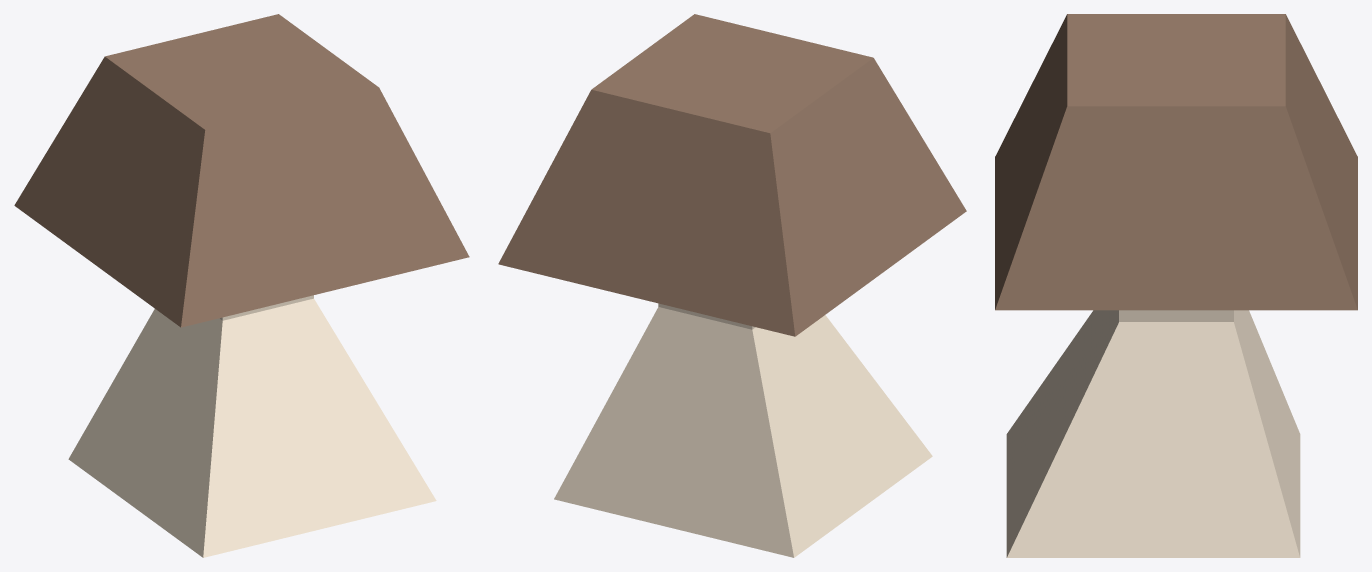
Rendered from mushroom1.glb.
3 views of the same model, side by side, from view 1: azimuth 30°, elevation 25°; view 2: azimuth 150°, elevation 25°; view 3: azimuth 270°, elevation 25° (orthographic). The views are drawn at different scales.
Parts seen in each view (by area): view 1: Boletus; view 2: Boletus; view 3: Boletus.
Part boxes in pixels (x1=…): Boletus: x1=14, y1=14, x2=469, y2=557; Boletus: x1=498, y1=14, x2=966, y2=557; Boletus: x1=995, y1=14, x2=1357, y2=557.
Size of the model in its own units: 1.92 by 2.55 by 1.92.
